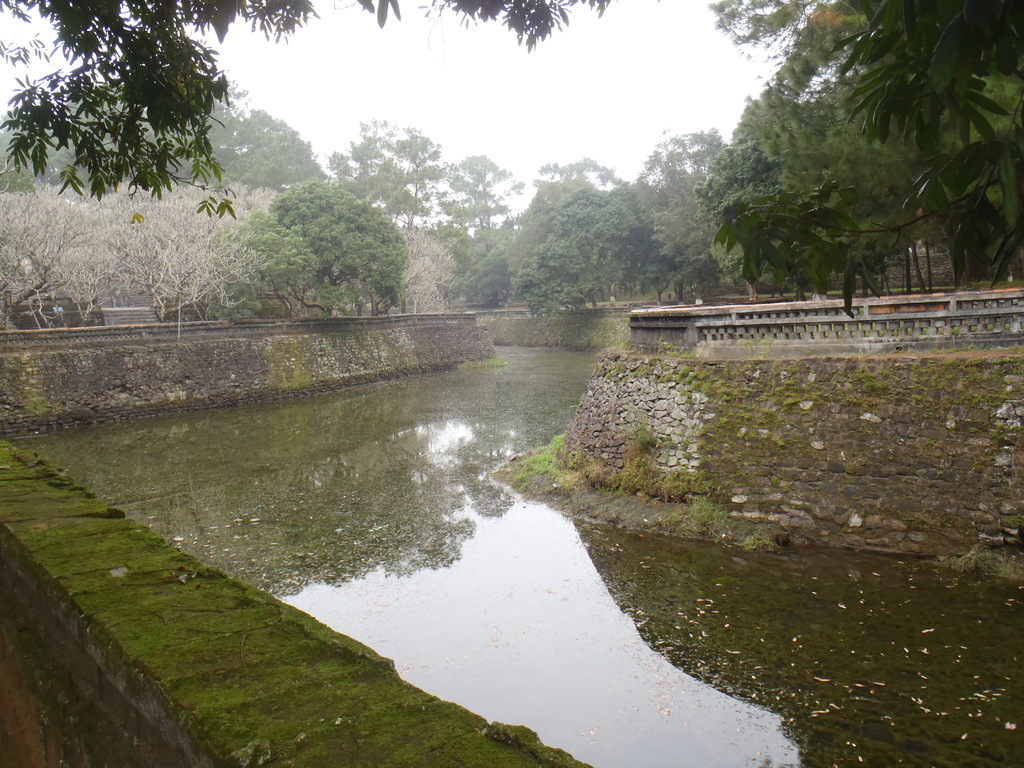Tree: (0, 0, 1024, 329)
